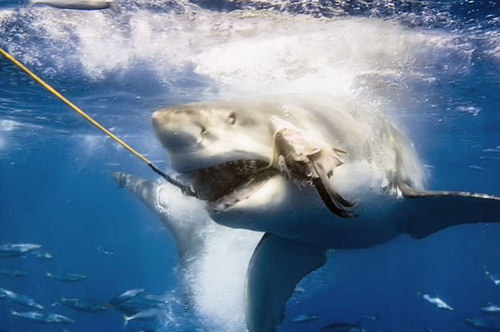shark: (80, 46, 492, 328)
